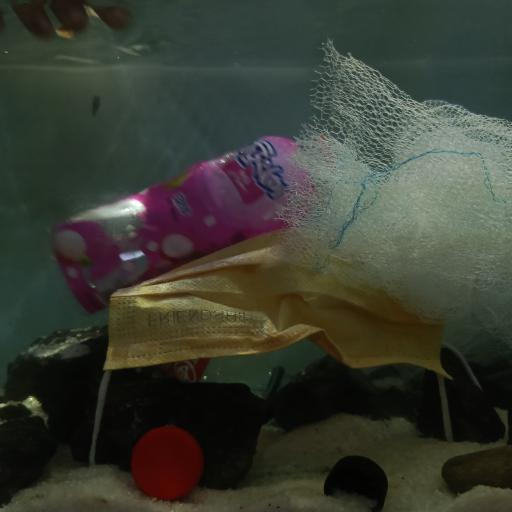bottle_cap: (130, 424, 204, 500), (323, 453, 388, 510)
mask: (91, 228, 465, 394)
net: (272, 35, 512, 344)
plastic_bottle: (50, 133, 338, 314), (101, 306, 293, 395)
